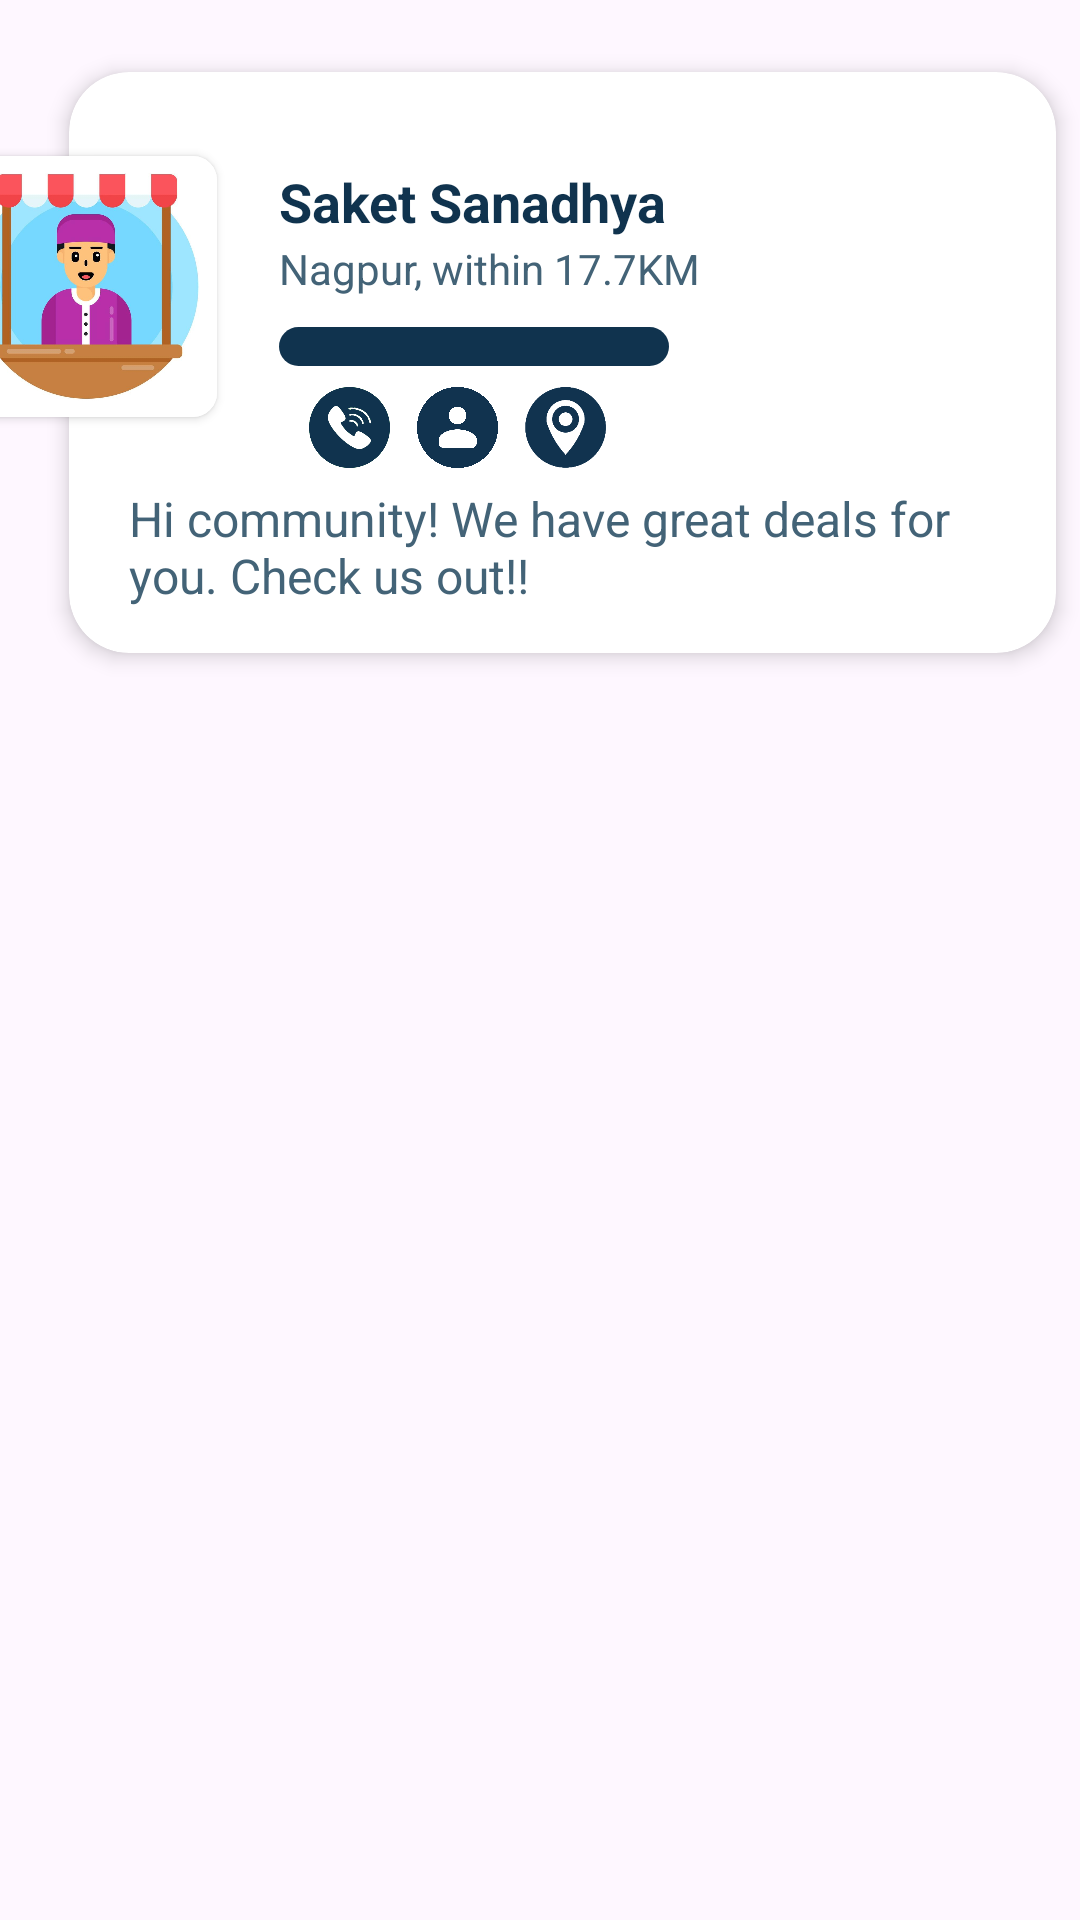

Icon bounding boxes for this 1080w x 1920h phone screenshot, format (x1, y1, x2, y2):
contacts: (417, 387, 498, 468)
location: (525, 387, 606, 468)
